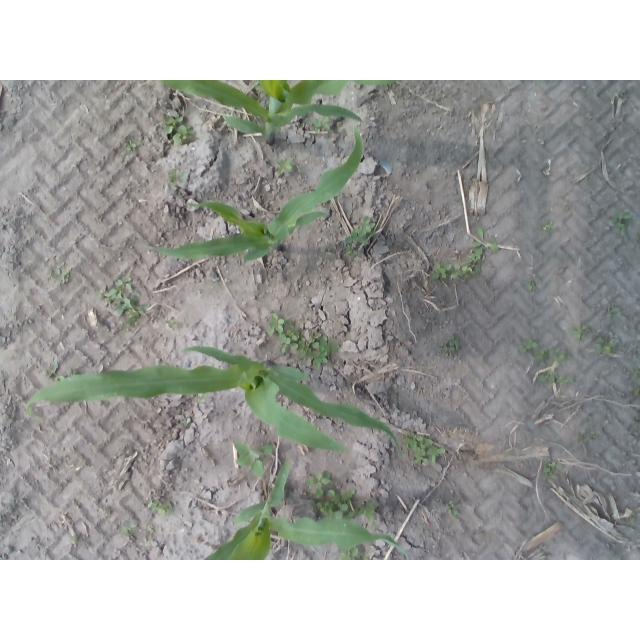Maize: (26, 346, 402, 453), (147, 128, 365, 260), (201, 462, 408, 560), (161, 80, 396, 145)
Weeds: (103, 287, 147, 326), (233, 440, 271, 478), (298, 338, 340, 366), (473, 227, 500, 257), (278, 318, 300, 354), (413, 439, 433, 468), (306, 473, 331, 495), (327, 489, 345, 517), (594, 337, 619, 356), (174, 125, 195, 146), (163, 115, 183, 136), (464, 255, 485, 274), (267, 314, 286, 335), (612, 213, 632, 232), (345, 230, 368, 245), (357, 217, 375, 236), (430, 263, 452, 278), (406, 433, 423, 452), (443, 338, 461, 355), (150, 502, 175, 514), (452, 265, 473, 279), (277, 157, 292, 176), (115, 277, 133, 292), (314, 116, 330, 132), (428, 447, 445, 462), (313, 333, 327, 351), (317, 502, 336, 515), (121, 520, 139, 533), (555, 347, 570, 362), (606, 305, 619, 322), (364, 501, 376, 519), (167, 169, 181, 184), (43, 364, 59, 377), (339, 550, 359, 560), (539, 371, 553, 384), (124, 142, 137, 155), (341, 488, 355, 500), (446, 501, 458, 515), (524, 339, 539, 350), (577, 428, 587, 444), (52, 262, 64, 275), (577, 325, 588, 339), (344, 247, 358, 256), (548, 462, 562, 471), (539, 351, 550, 362), (196, 394, 209, 403), (59, 273, 69, 284), (167, 319, 177, 330), (632, 366, 640, 379), (563, 376, 573, 385), (183, 418, 192, 427), (527, 281, 535, 291), (544, 468, 552, 477), (547, 222, 554, 231), (633, 385, 639, 395), (555, 375, 562, 382), (147, 525, 153, 532), (591, 432, 598, 438), (146, 541, 151, 547)
